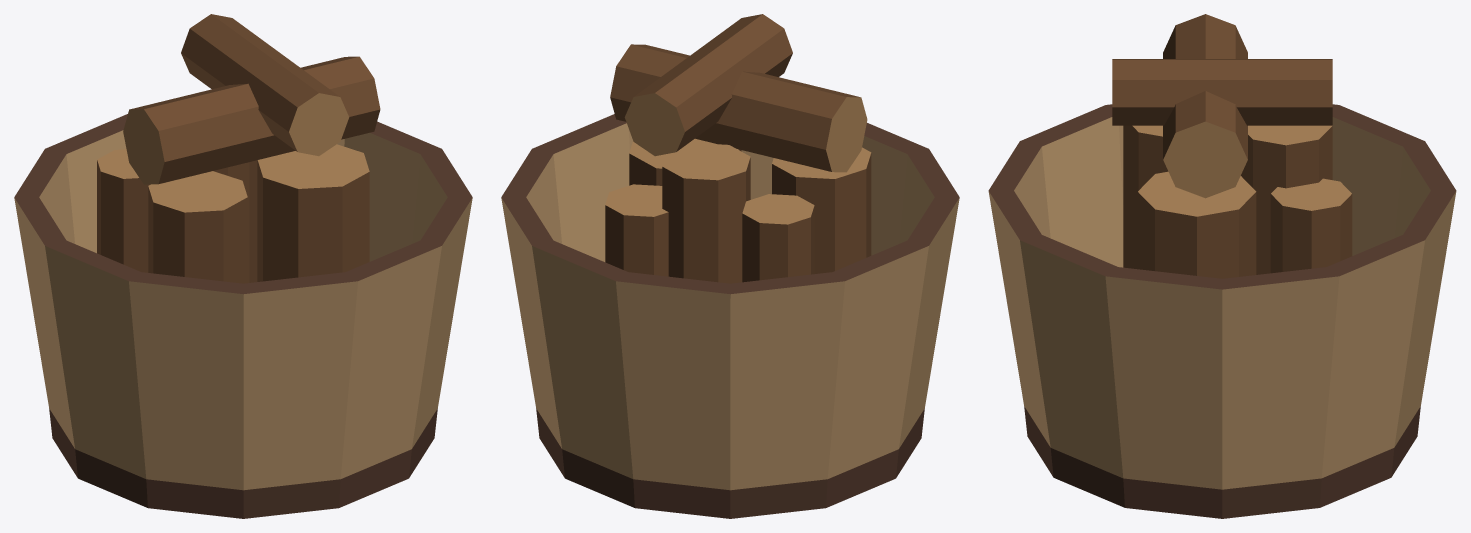
The model's file is FN_Basket_Log.obj.
3 renders of one model, left to right at view 1: azimuth 30°, elevation 25°; view 2: azimuth 150°, elevation 25°; view 3: azimuth 270°, elevation 25°, orthographic. The views are drawn at different scales.
Visible parts, largest first — view 1: FN_Basket_Log; view 2: FN_Basket_Log; view 3: FN_Basket_Log.
Boxes of the visible parts, bbox=[...] form: FN_Basket_Log: bbox=[14, 14, 472, 518]; FN_Basket_Log: bbox=[501, 14, 959, 518]; FN_Basket_Log: bbox=[988, 14, 1456, 518].
Bounding box in the file's own units: 0.552 × 0.504 × 0.552.
1 material, 1 textured.
